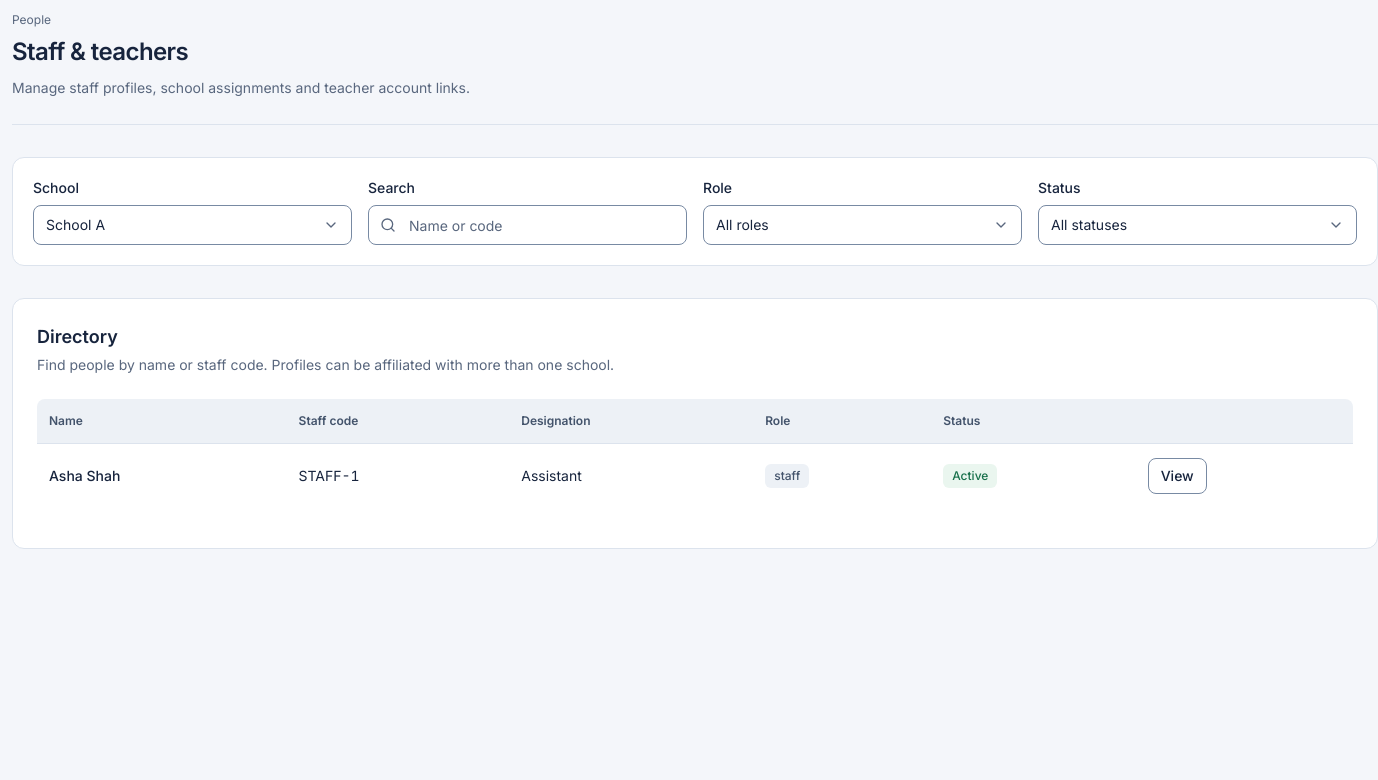
Scenario: staff directory interactions › offers an All roles choice after a role filter is selected
Check: the text "Asha Shah" is shown, box [37, 443, 287, 508]
Click the dropdown labelled "role": (742, 225) [703, 205, 1022, 245]
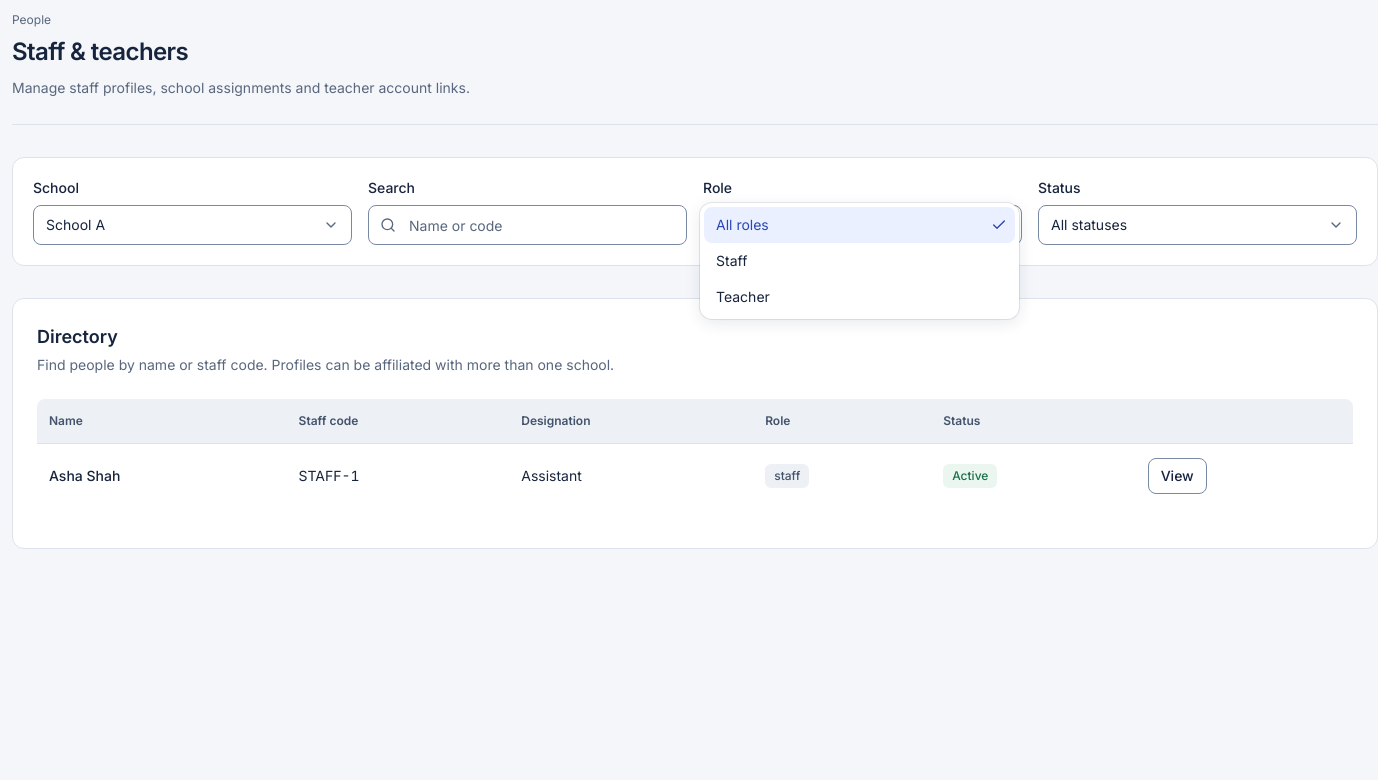
Click the option "Teacher": (743, 297) [716, 288, 770, 305]
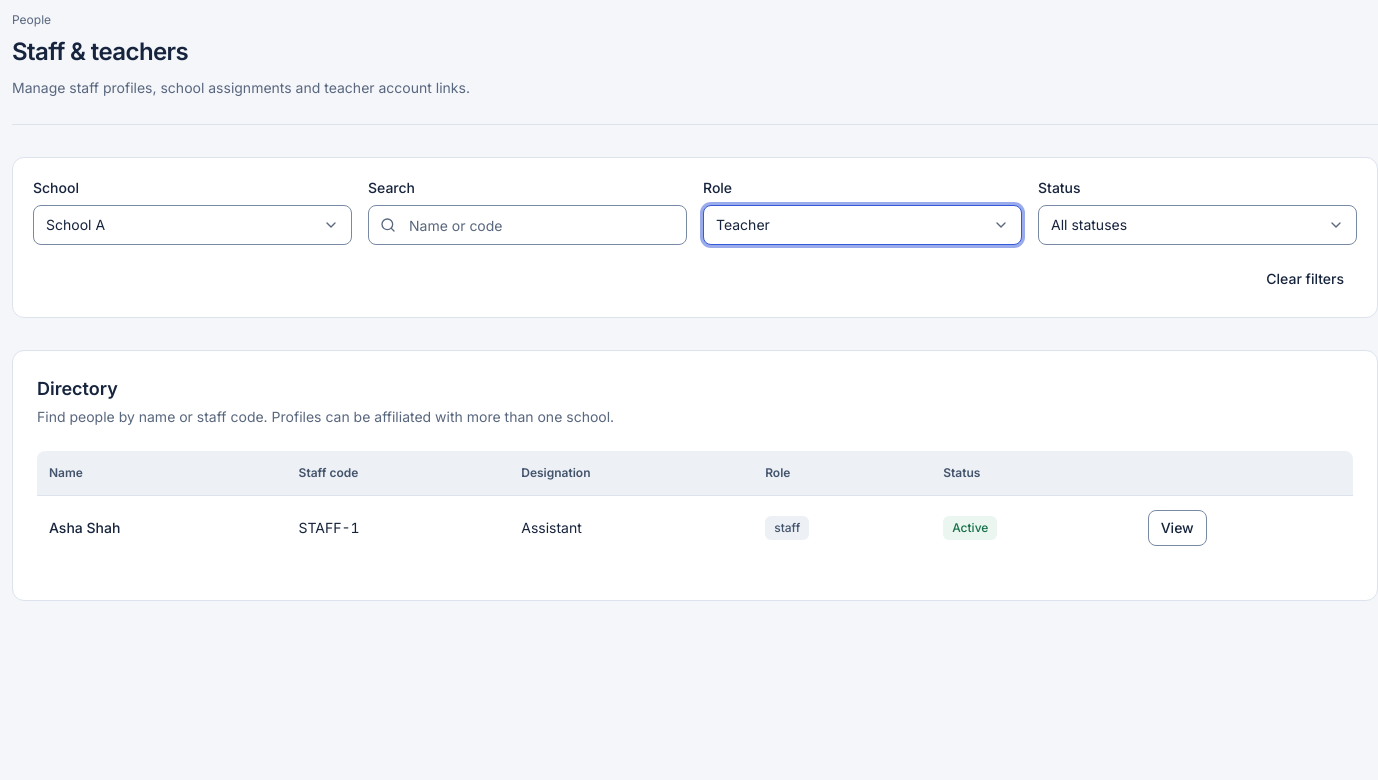
Click the dropdown named "Role": (743, 225) [703, 205, 1022, 245]
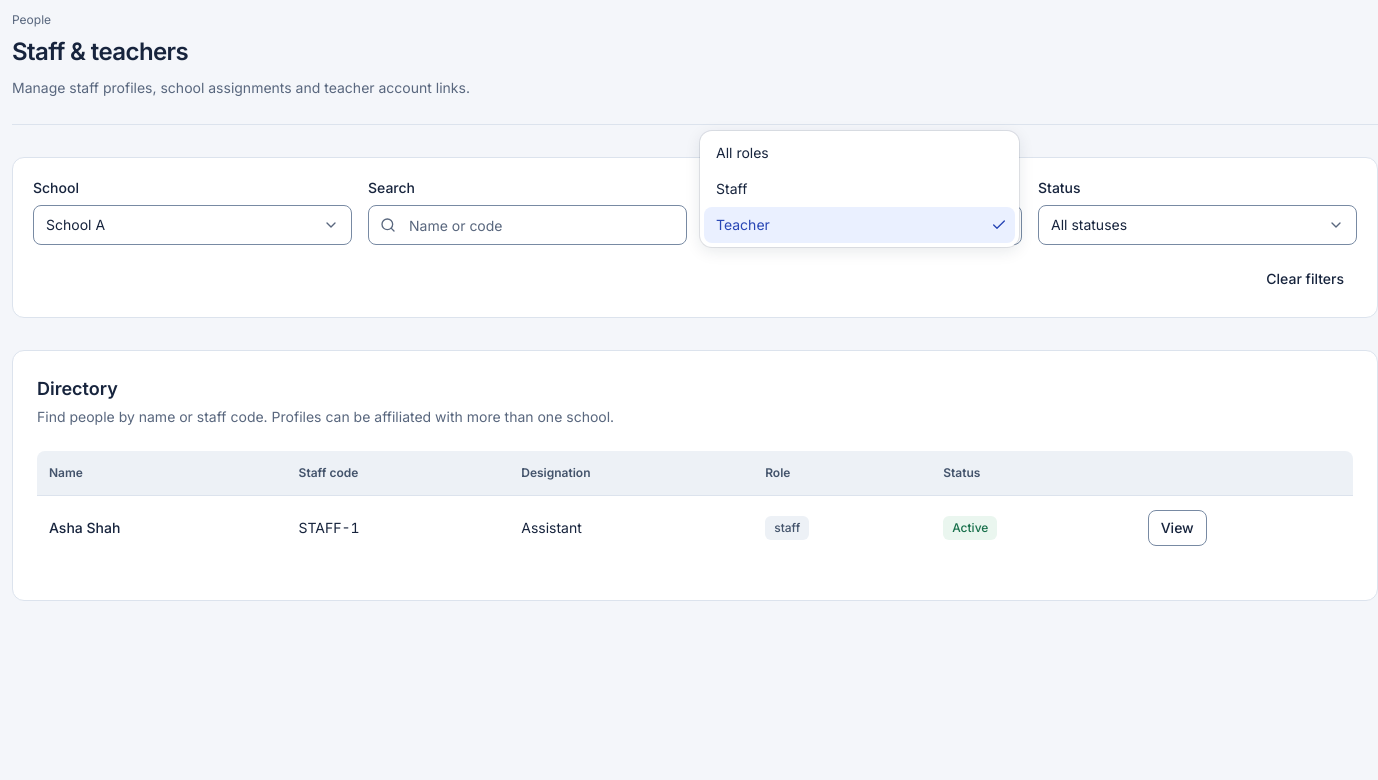
Check: the option "All roles" is shown, box [716, 144, 769, 161]
